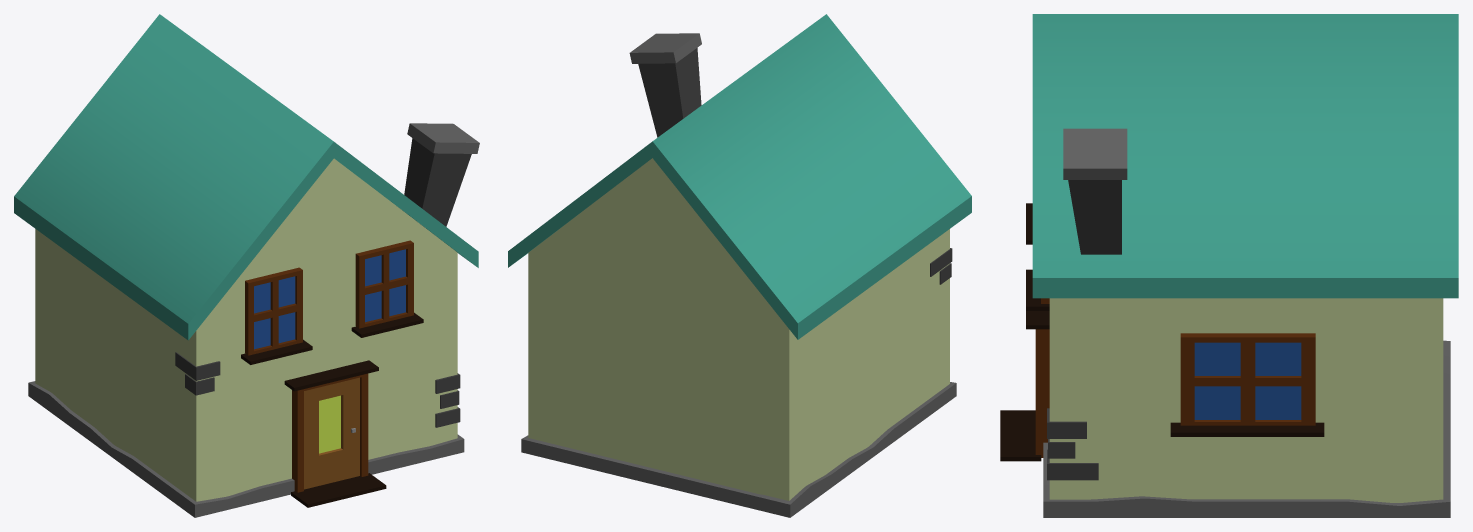
File: Casa.fbx
The picture shows the model from 3 angles, left to right: view 1: azimuth 30°, elevation 25°; view 2: azimuth 150°, elevation 25°; view 3: azimuth 270°, elevation 25°; orthographic projection. The views are drawn at different scales.
Visible parts, largest first — view 1: casa, techoCasa, baseCasa, Box001, Box027, Box021, Box011, marcoPuerta, Box028, basePuerta, Box009, ventanaPuerta (+3 smaller); view 2: casa, techoCasa, baseCasa, Box027, Box028; view 3: techoCasa, casa, baseCasa, Box053, Box027, Box028, Box058, basePuerta, marcoPuerta, Box056, Box057, Box054 (+3 smaller).
Boxes of the visible parts, x1,y1,x2,y2 form: casa: (35, 158, 457, 501); techoCasa: (14, 14, 478, 340); baseCasa: (28, 381, 464, 517); Box001: (304, 377, 359, 489); Box027: (404, 138, 471, 229); Box021: (355, 240, 413, 328); Box011: (245, 267, 302, 355); marcoPuerta: (292, 373, 368, 492); Box028: (407, 123, 479, 153); basePuerta: (291, 473, 386, 507); Box009: (284, 360, 378, 391); ventanaPuerta: (319, 395, 340, 453); casa: (528, 158, 949, 500); techoCasa: (508, 14, 971, 339); baseCasa: (521, 382, 956, 517); Box027: (638, 48, 701, 137); Box028: (629, 33, 701, 63); techoCasa: (1032, 14, 1458, 298); casa: (1049, 298, 1443, 502); baseCasa: (1043, 340, 1450, 517); Box053: (1180, 333, 1315, 425); Box027: (1068, 180, 1121, 254); Box028: (1063, 128, 1127, 179); Box058: (1170, 422, 1324, 436); basePuerta: (1000, 410, 1041, 461); marcoPuerta: (1035, 329, 1049, 457); Box056: (1255, 386, 1301, 419); Box057: (1194, 386, 1240, 419); Box054: (1194, 342, 1240, 375).
Bounding box in the file's own units: 149 × 162 × 159.
